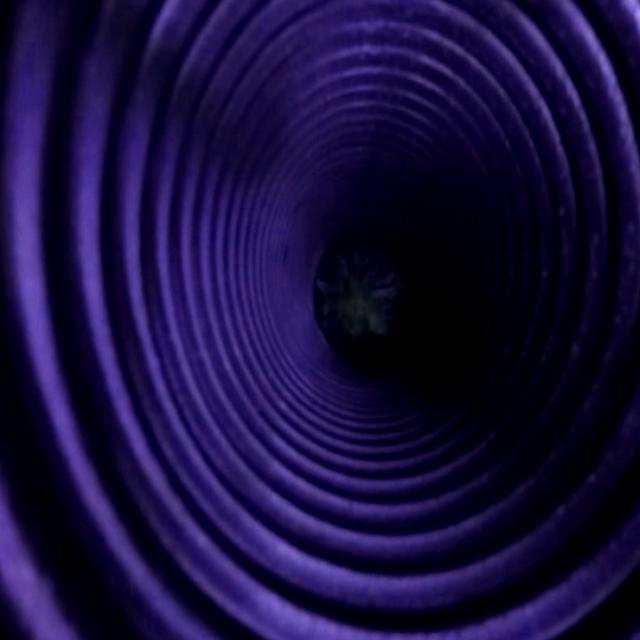leaf: (317, 246, 397, 345)
